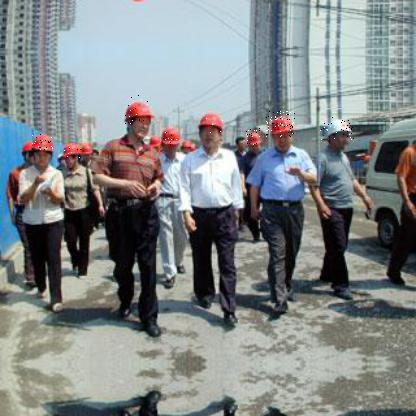safetyhelmet: (320, 116, 355, 141), (266, 111, 296, 138), (124, 95, 150, 125), (196, 113, 229, 134), (32, 134, 54, 152), (246, 128, 262, 147), (63, 143, 82, 159), (163, 129, 179, 146)
